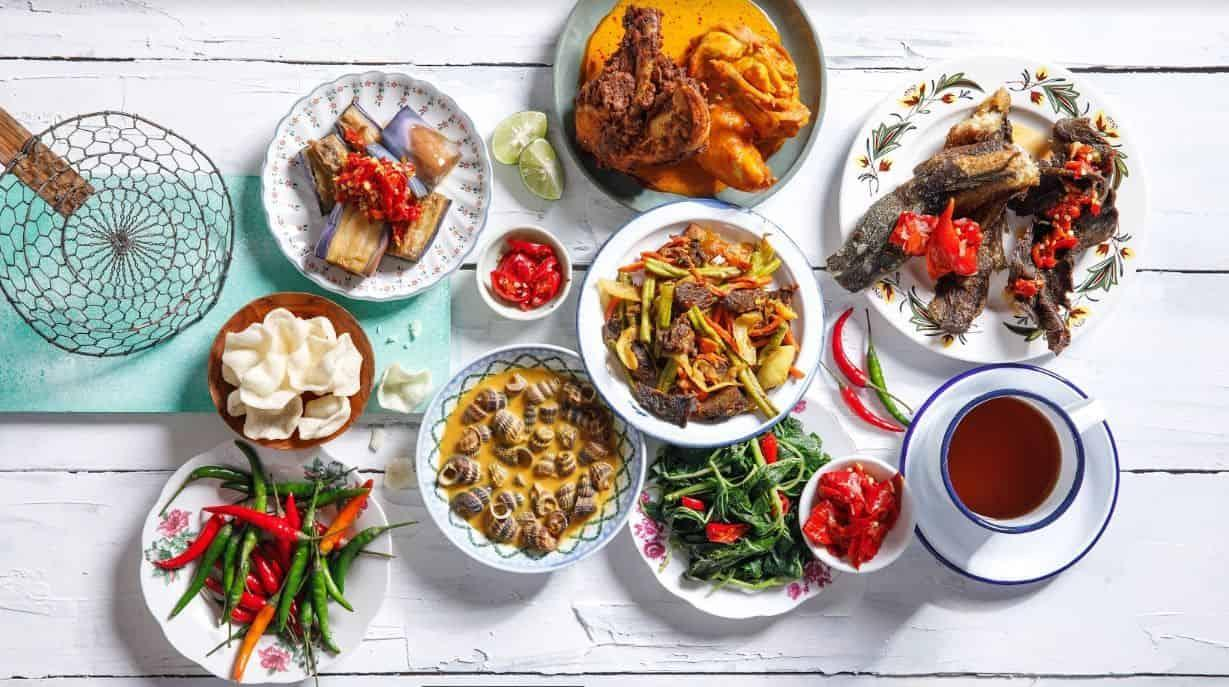Braised Crucian Carp: (831, 58, 1145, 368), (138, 439, 390, 682), (577, 198, 820, 443), (549, 3, 814, 222), (615, 404, 858, 623), (259, 70, 488, 301), (416, 345, 639, 574), (207, 292, 374, 451)
